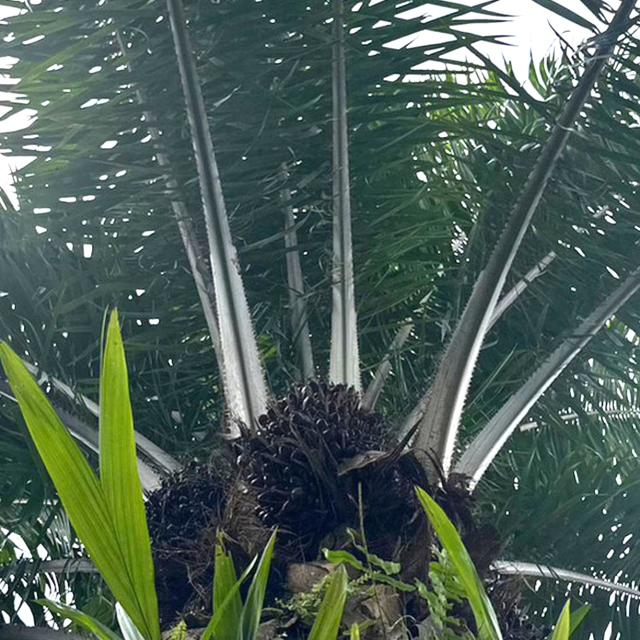ripe: (229, 357, 409, 546), (124, 452, 238, 596)
